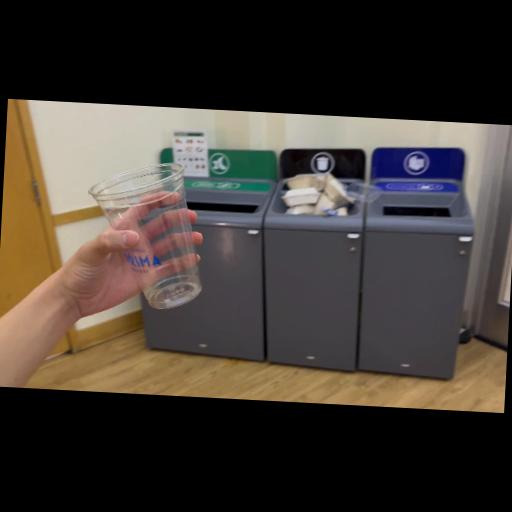lp_plastic_cup: (77, 154, 217, 322)
